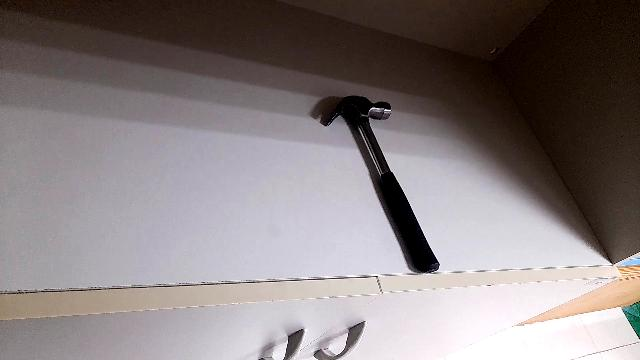hammer: (312, 86, 448, 276)
